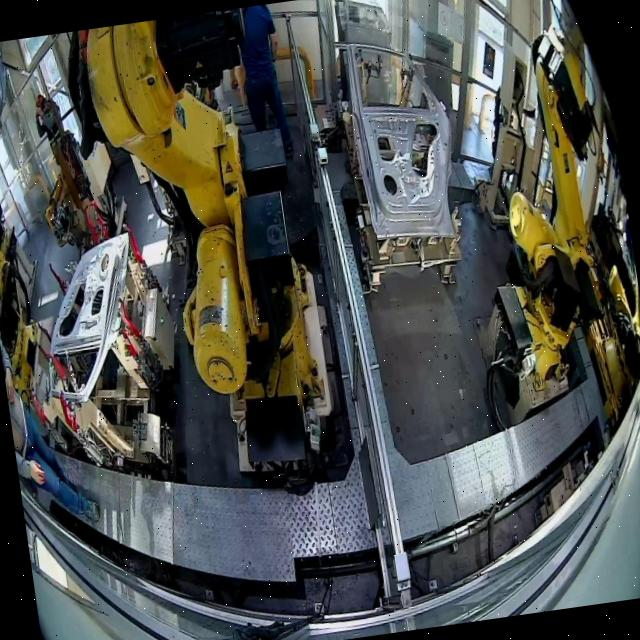Person: (0, 323, 99, 528), (234, 4, 296, 162)
